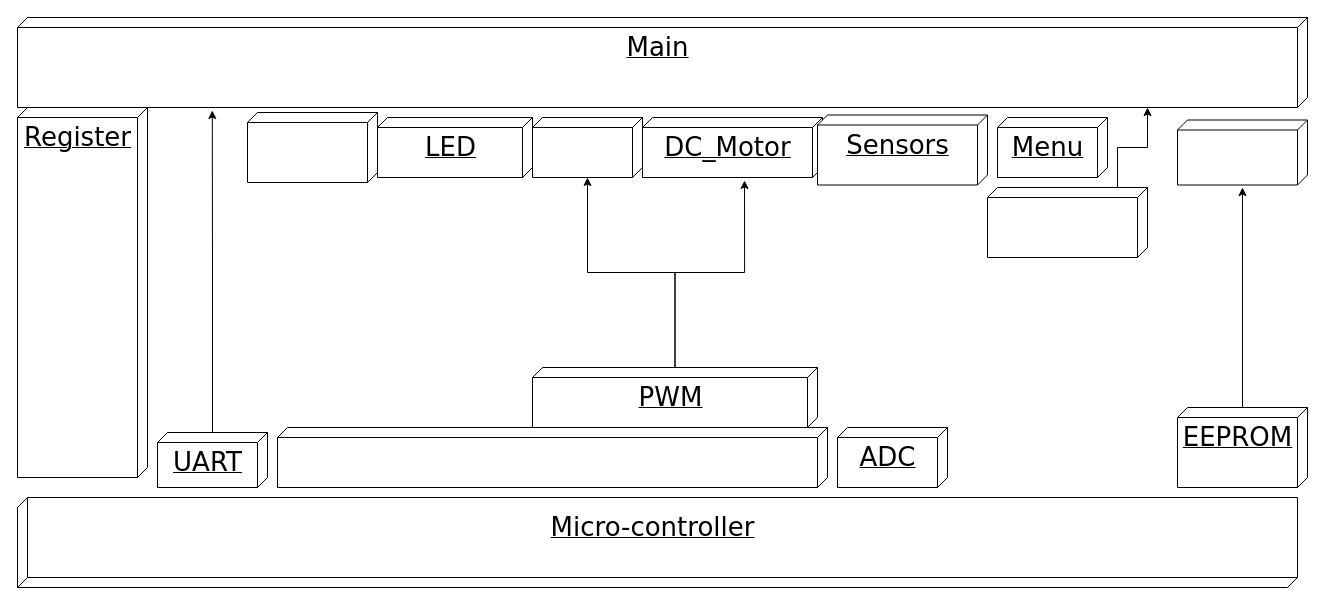
The diagram is 1325 pixels wide and 606 high, and some of its shapes have lost their labels. The centre of each missing label's shape, as x and y in pixels:
DIO: [552,457]
keypad: [312,147]
LCD: [1067,222]
Servo: [587,147]
Settings: [1242,152]
